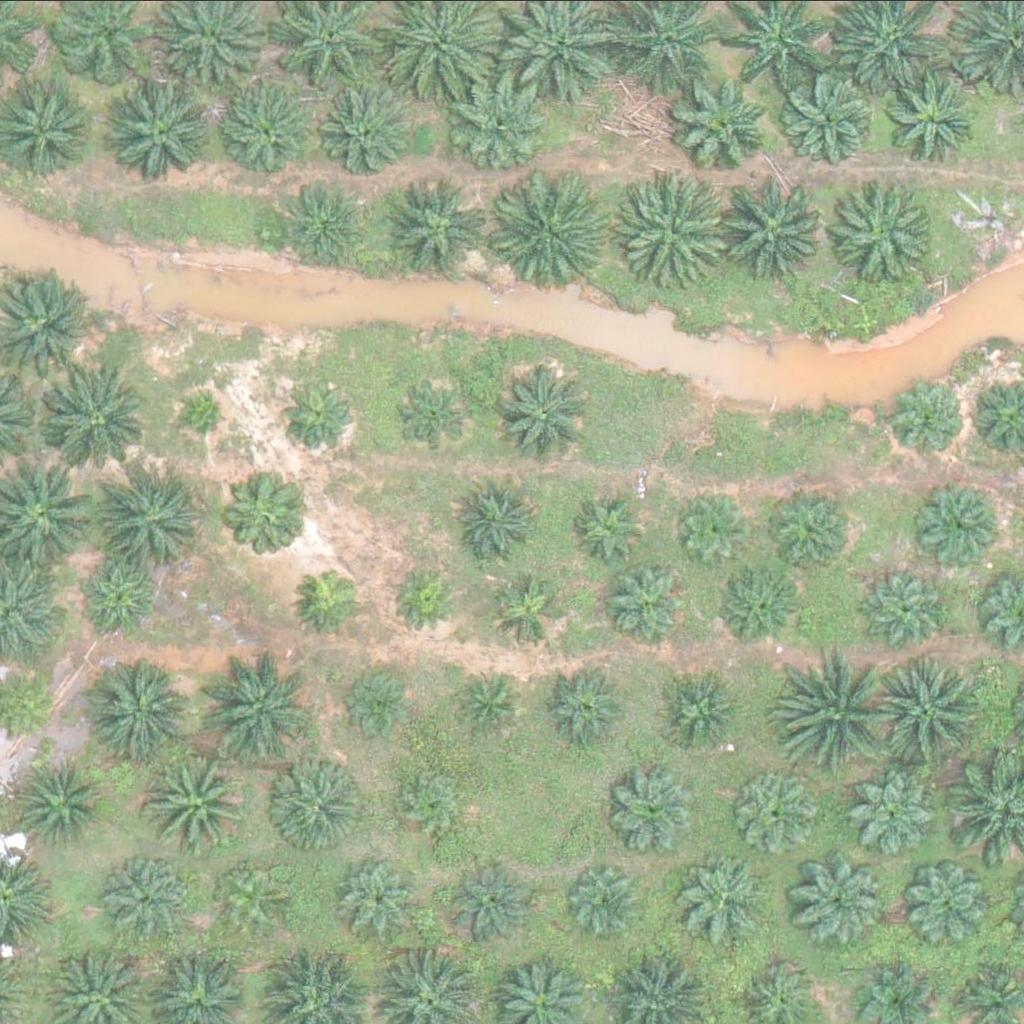Kelapa_Sawit: (489, 172, 603, 285), (613, 176, 726, 289), (785, 654, 898, 767), (40, 366, 153, 479), (722, 170, 836, 282), (878, 657, 991, 769), (201, 647, 314, 759), (92, 455, 205, 567), (779, 72, 880, 172), (875, 68, 976, 168), (831, 179, 932, 279), (495, 364, 596, 464), (147, 754, 248, 854), (86, 657, 187, 757), (206, 79, 307, 179), (114, 79, 215, 179), (386, 177, 487, 277), (672, 75, 772, 175), (266, 753, 366, 853), (449, 72, 549, 172), (308, 76, 408, 176), (601, 559, 690, 647), (389, 367, 478, 455), (545, 661, 633, 749), (661, 673, 749, 761), (768, 489, 856, 577), (804, 857, 892, 945), (905, 857, 993, 945), (737, 767, 825, 855), (78, 552, 166, 640), (450, 858, 538, 946), (332, 851, 420, 939), (215, 467, 303, 555), (454, 473, 542, 561), (716, 561, 804, 648), (864, 568, 952, 655), (921, 479, 1009, 566), (608, 766, 696, 853), (850, 769, 938, 856), (681, 855, 769, 942), (99, 854, 187, 941), (19, 760, 107, 847), (271, 370, 359, 457), (274, 183, 362, 270), (571, 863, 647, 938), (342, 665, 418, 740), (681, 490, 757, 565), (894, 381, 970, 456), (454, 667, 530, 742), (292, 560, 367, 635), (213, 859, 288, 934), (492, 575, 567, 650), (397, 761, 472, 836), (576, 487, 651, 562), (388, 560, 463, 635), (186, 388, 236, 438)
